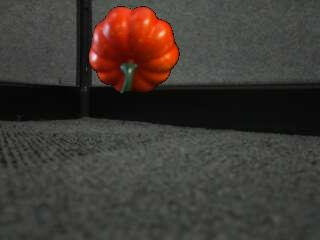Pumpkin: (88, 5, 180, 95)
